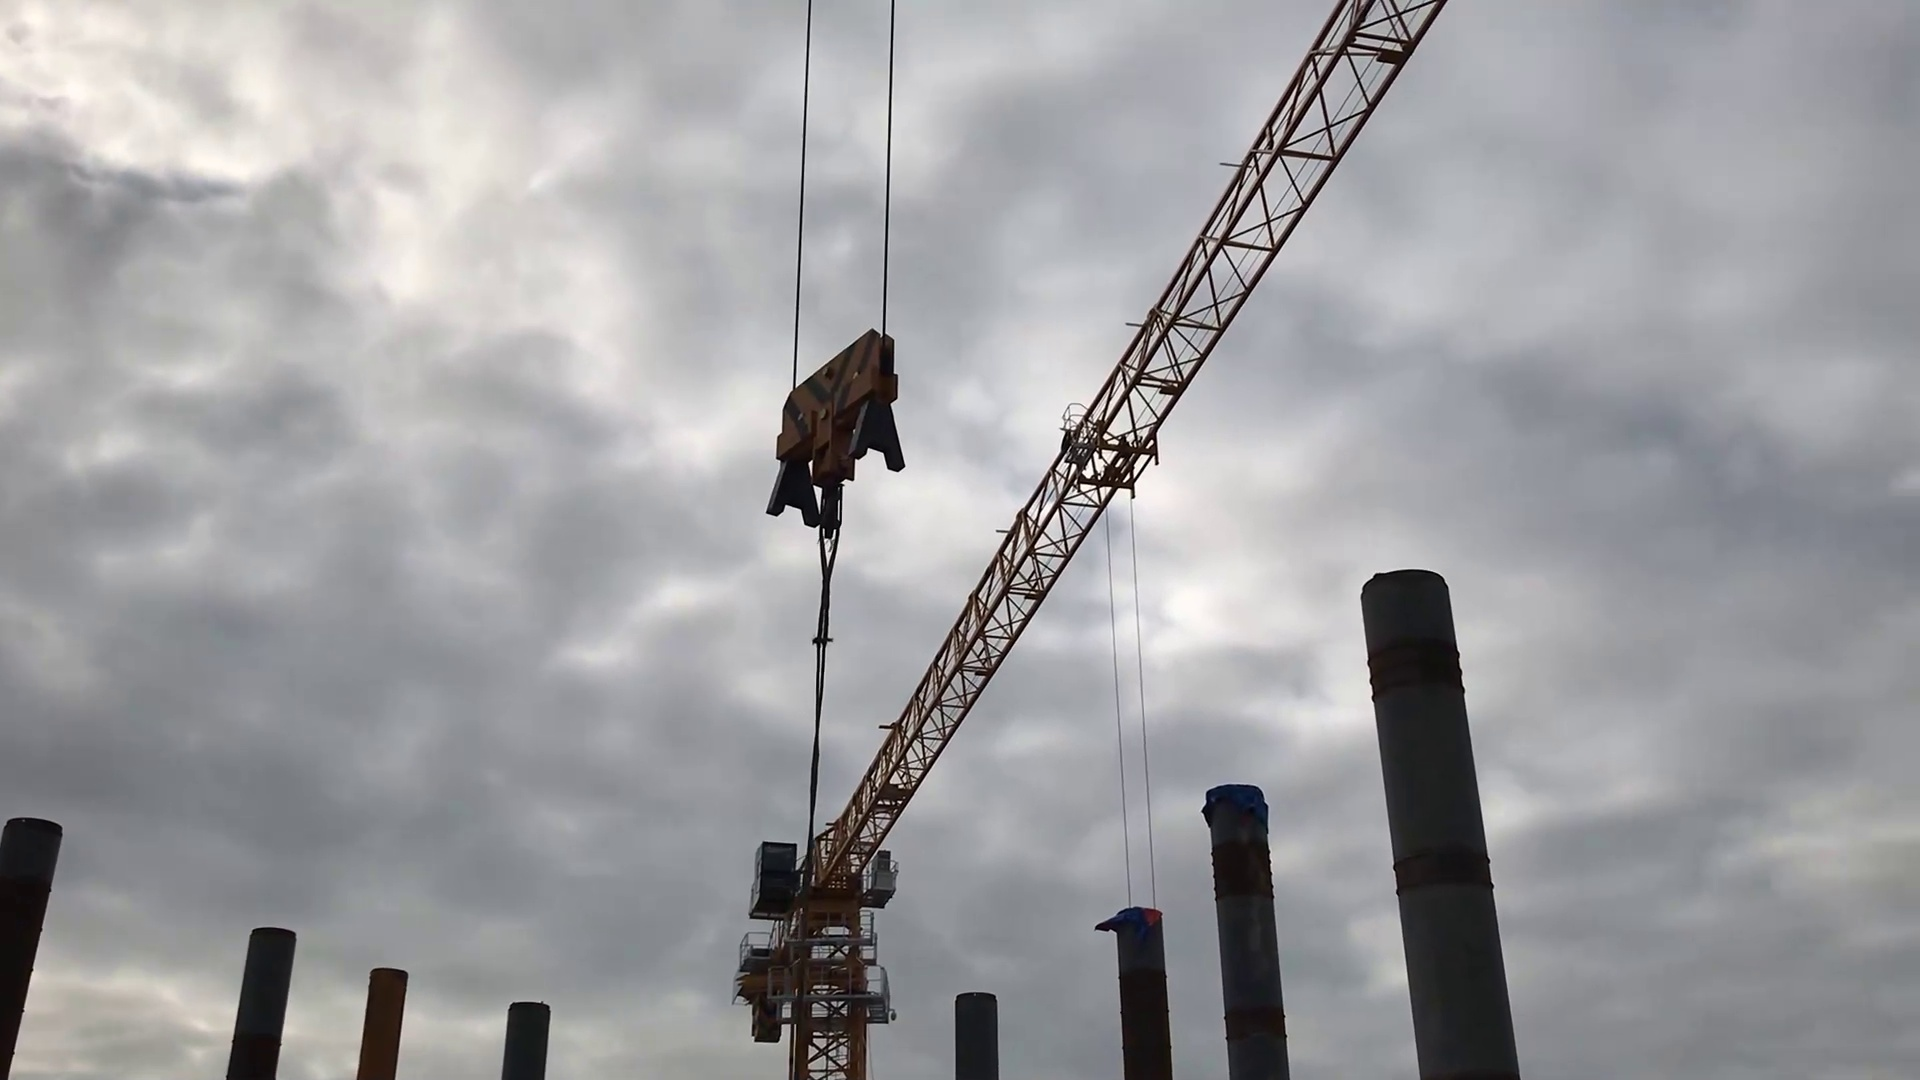hook: (761, 320, 913, 545)
